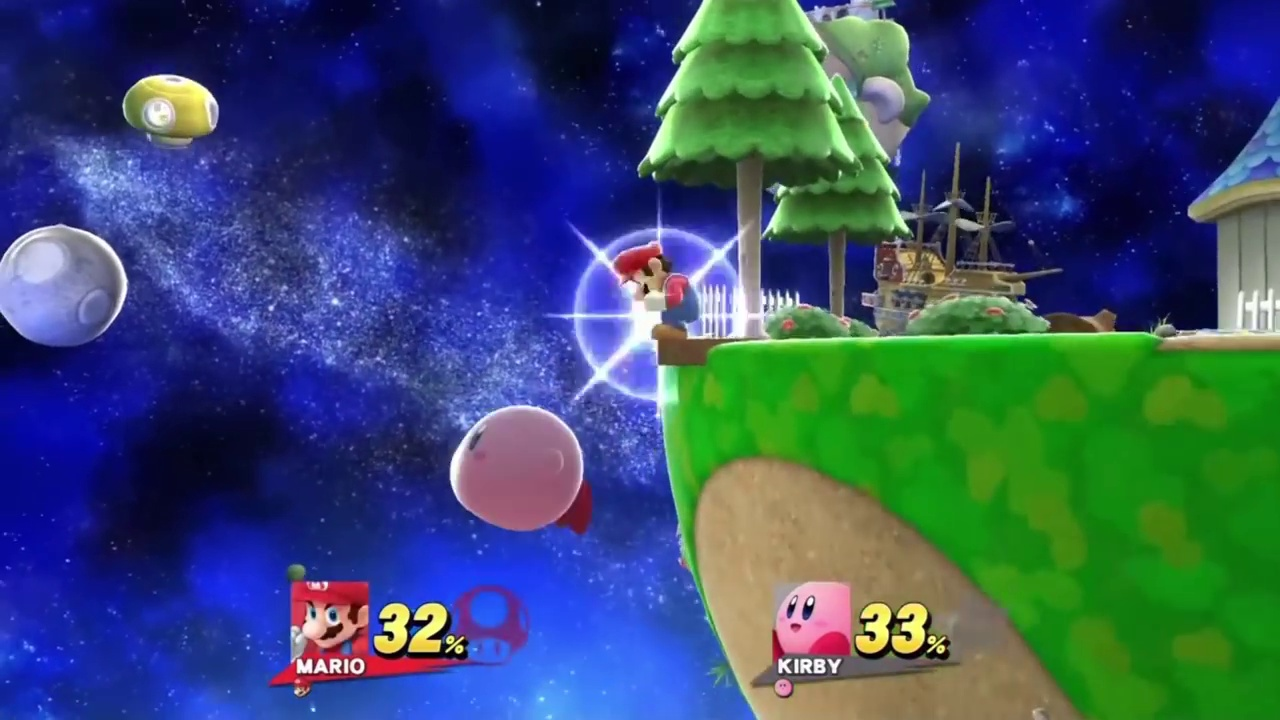Mario: (612, 240, 698, 340)
